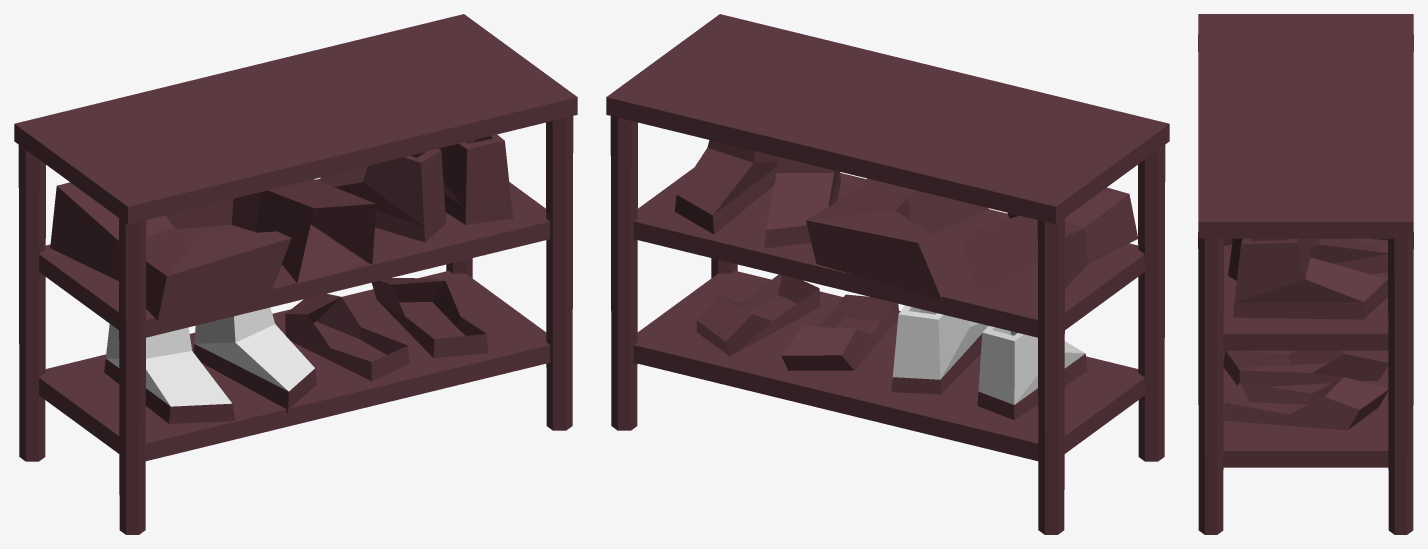
File: bench-storage-shoes.fbx
3 views of the same model, side by side, from view 1: azimuth 30°, elevation 25°; view 2: azimuth 150°, elevation 25°; view 3: azimuth 270°, elevation 25° (orthographic). The views are drawn at different scales.
Visible parts, largest first — view 1: bench-storage-shoes; view 2: bench-storage-shoes; view 3: bench-storage-shoes.
Boxes of the visible parts, x1,y1,x2,y2 form: bench-storage-shoes: (14, 14, 577, 534); bench-storage-shoes: (606, 14, 1169, 534); bench-storage-shoes: (1198, 14, 1413, 534).
Bounding box in the file's own units: 0.8 × 0.5627 × 0.3507.
